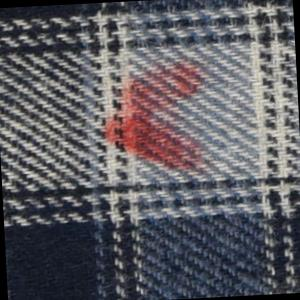Stain: (96, 56, 214, 186)
